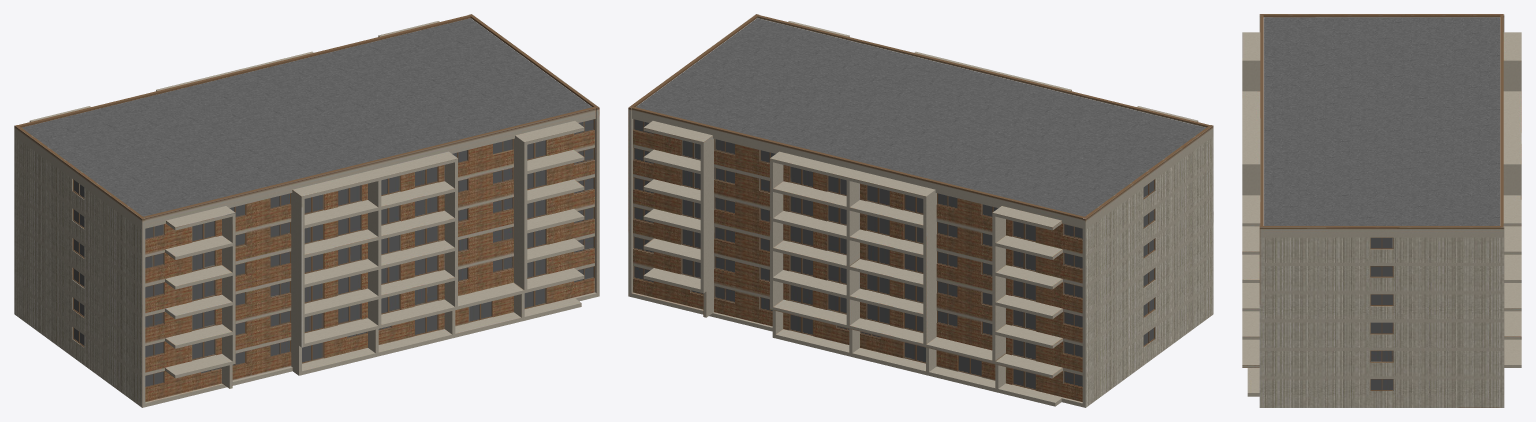
Rendered from 175 Bloor St W (version 2.0).fbx.
The picture shows the model from 3 angles, left to right: view 1: azimuth 30°, elevation 25°; view 2: azimuth 150°, elevation 25°; view 3: azimuth 270°, elevation 25°; orthographic projection. The views are drawn at different scales.
Visible parts, largest first — view 1: 175_Bloor_St_W_LOD0; view 2: 175_Bloor_St_W_LOD0; view 3: 175_Bloor_St_W_LOD0.
Part boxes in pixels (<box>): 175_Bloor_St_W_LOD0: <box>14,14,599,407</box>; 175_Bloor_St_W_LOD0: <box>628,14,1213,407</box>; 175_Bloor_St_W_LOD0: <box>1242,14,1521,407</box>.
Size of what is drawn, in the model's own units: 3800 by 1500 by 2100.
1 material, 1 textured.
